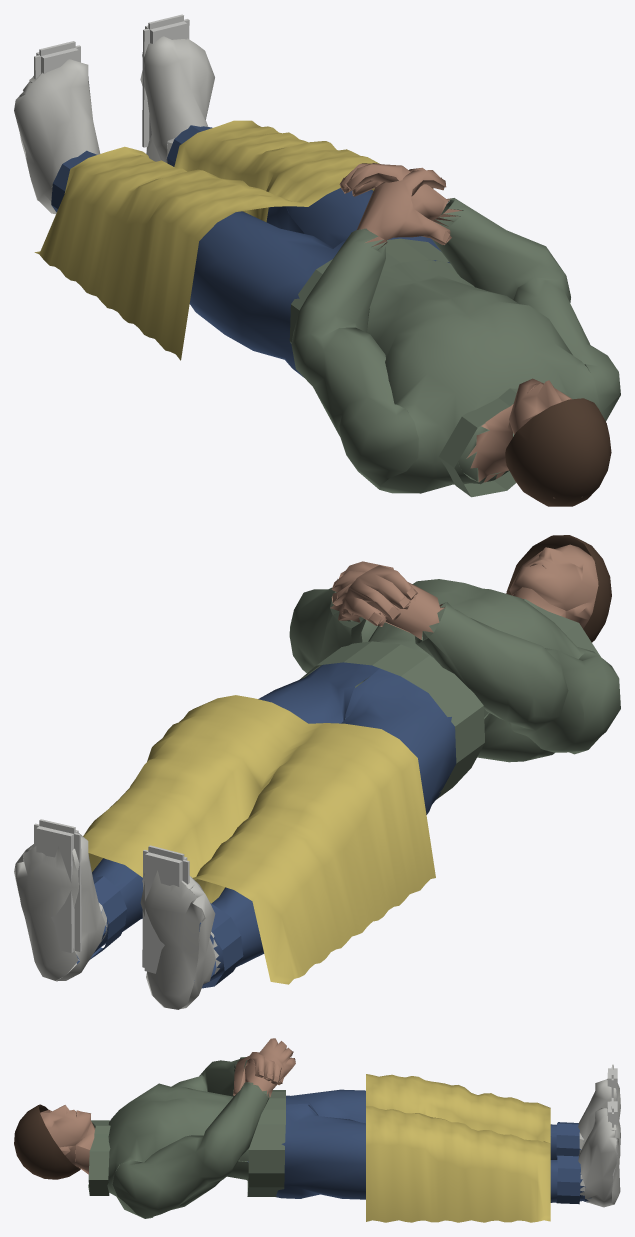
The model's file is driver-lying.glb.
The picture shows the model from 3 angles, top to bottom: view 1: azimuth 30°, elevation 25°; view 2: azimuth 150°, elevation 25°; view 3: azimuth 270°, elevation 25°; orthographic projection. The views are drawn at different scales.
Parts seen in each view (by area): view 1: driver-lying; view 2: driver-lying; view 3: driver-lying.
Boxes of the visible parts, x1,y1,x2,y2 form: driver-lying: [14, 14, 620, 506]; driver-lying: [14, 535, 620, 1009]; driver-lying: [14, 1038, 620, 1222].
Bounding box in the file's own units: 0.5685 × 0.4807 × 1.77.
